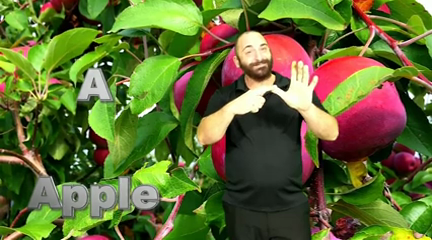A: (232, 59, 320, 118)
